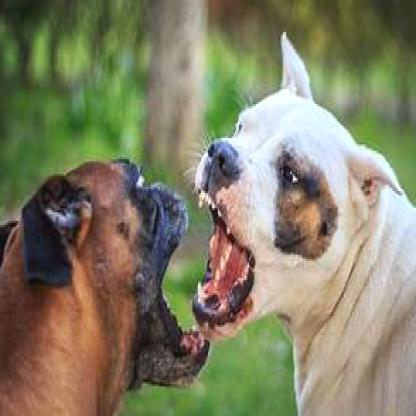dog: (192, 32, 414, 414), (0, 159, 214, 414)
